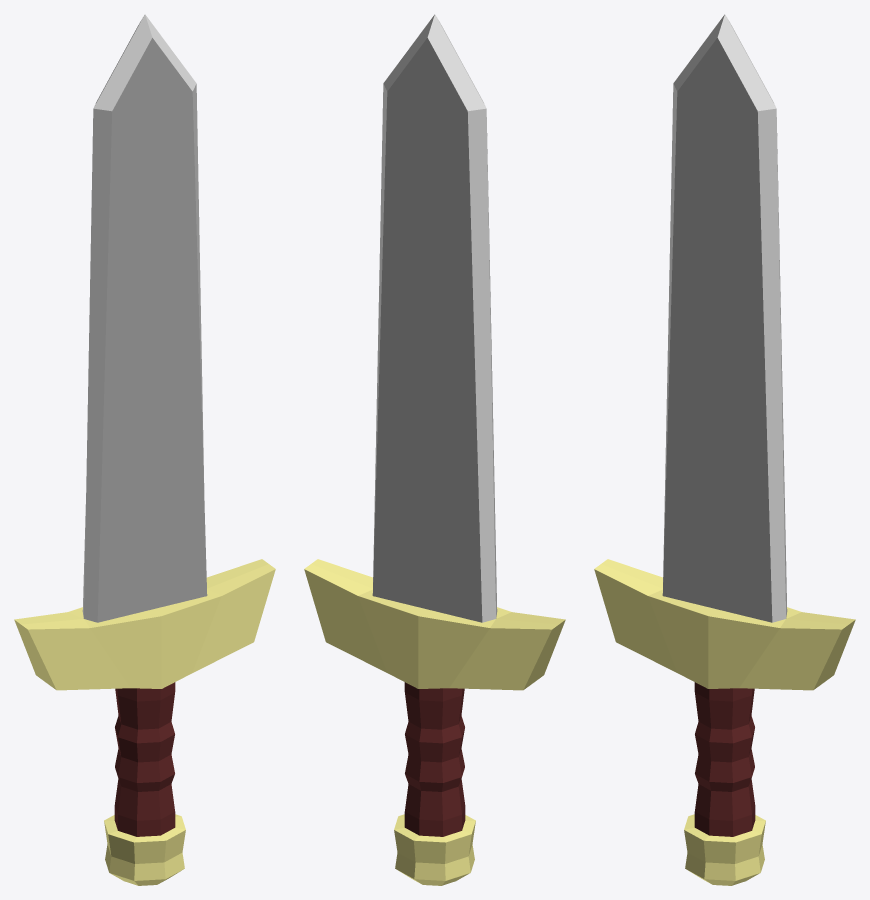
Rendered from Longsword.fbx.
3 renders of one model, left to right at view 1: azimuth 30°, elevation 25°; view 2: azimuth 150°, elevation 25°; view 3: azimuth 330°, elevation 25°, orthographic.
Parts seen in each view (by area): view 1: Longsword; view 2: Longsword; view 3: Longsword.
Boxes of the visible parts, x1,y1,x2,y2 form: Longsword: [14, 14, 275, 885]; Longsword: [304, 14, 565, 885]; Longsword: [594, 14, 855, 885].
Size of the model in its own units: 58.21 by 193 by 17.25.
